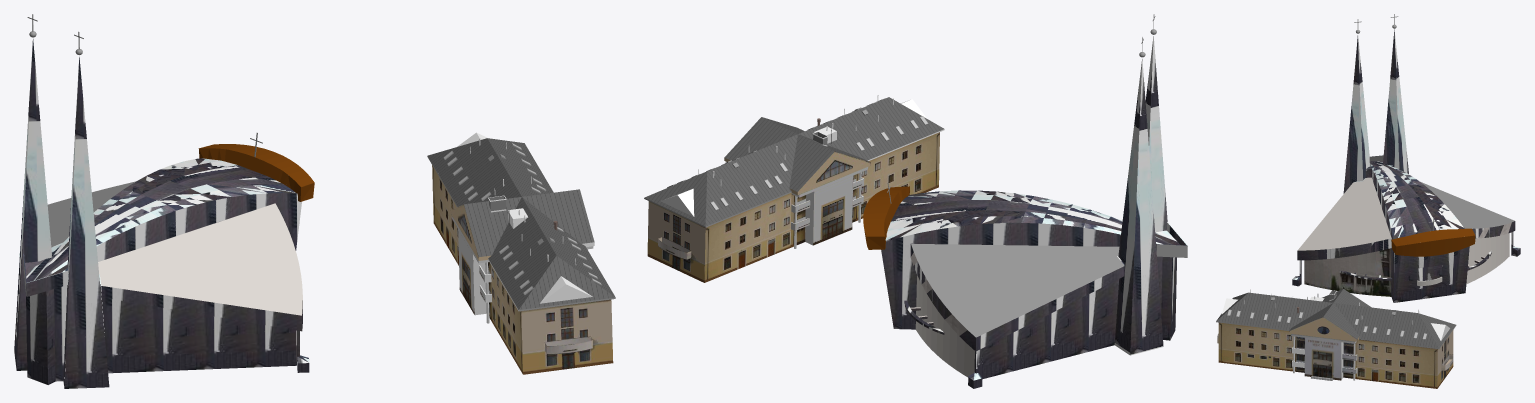
Rendered from modely.glb.
The picture shows the model from 3 angles, left to right: view 1: azimuth 30°, elevation 25°; view 2: azimuth 150°, elevation 25°; view 3: azimuth 270°, elevation 25°; orthographic projection. The views are drawn at different scales.
Parts seen in each view (by area): view 1: stena-veže-BEZ-žaluzie, material_6, material_2, STENA-J, Color_B21, STENA-JV1, material, _0135_DarkGray, STENA-SV, priečelie-budovy-východ, M_rehol_centrum, Color_002 (+1 smaller); view 2: stena-veže-BEZ-žaluzie, material_6, _0135_DarkGray, STENA-SV, STENA-JV1, STENA-J, priečelie-budovy-východ, material_2, Color_B21, material, _3uholník-priečelie-budovy, M_rehol_centrum; view 3: stena-veže-BEZ-žaluzie, material_6, material_2, STENA-SZ, STENA-JZ, priečelie-budovy-západ, bok-lode-s-oknami_0, Color_B21, _0135_DarkGray, _3uholník-priečelie-budovy-vchod, material, STENA-J (+3 smaller).
Part boxes in pixels (<box>): stena-veže-BEZ-žaluzie: <box>14,39,309,388</box>; material_6: <box>428,138,615,309</box>; material_2: <box>98,203,302,315</box>; STENA-J: <box>521,299,613,374</box>; Color_B21: <box>198,144,314,201</box>; STENA-JV1: <box>489,263,522,373</box>; material: <box>457,132,594,310</box>; _0135_DarkGray: <box>23,132,262,295</box>; STENA-SV: <box>432,165,458,265</box>; priečelie-budovy-východ: <box>452,217,491,320</box>; M_rehol_centrum: <box>427,143,615,311</box>; Color_002: <box>470,142,587,323</box>; stena-veže-BEZ-žaluzie: <box>881,36,1187,388</box>; material_6: <box>644,97,943,226</box>; _0135_DarkGray: <box>887,183,1187,337</box>; STENA-SV: <box>704,193,794,282</box>; STENA-JV1: <box>855,132,939,220</box>; STENA-J: <box>647,201,705,282</box>; priečelie-budovy-východ: <box>795,167,868,245</box>; material_2: <box>915,275,974,377</box>; Color_B21: <box>863,186,909,249</box>; material: <box>661,95,944,245</box>; _3uholník-priečelie-budovy: <box>797,151,870,194</box>; M_rehol_centrum: <box>644,98,928,227</box>; stena-veže-BEZ-žaluzie: <box>1292,29,1520,302</box>; material_6: <box>1216,289,1455,348</box>; material_2: <box>1297,177,1509,284</box>; STENA-SZ: <box>1355,339,1437,388</box>; STENA-JZ: <box>1218,322,1295,371</box>; priečelie-budovy-západ: <box>1291,334,1356,380</box>; bok-lode-s-oknami_0: <box>1304,248,1391,296</box>; Color_B21: <box>1391,228,1475,256</box>; _0135_DarkGray: <box>1370,155,1514,230</box>; _3uholník-priečelie-budovy-vchod: <box>1289,317,1359,341</box>; material: <box>1222,290,1449,379</box>; STENA-J: <box>1217,330,1453,388</box>.
Bounding box in the file's own units: 91.16 × 55.36 × 70.05.
72 materials, 51 textured.
